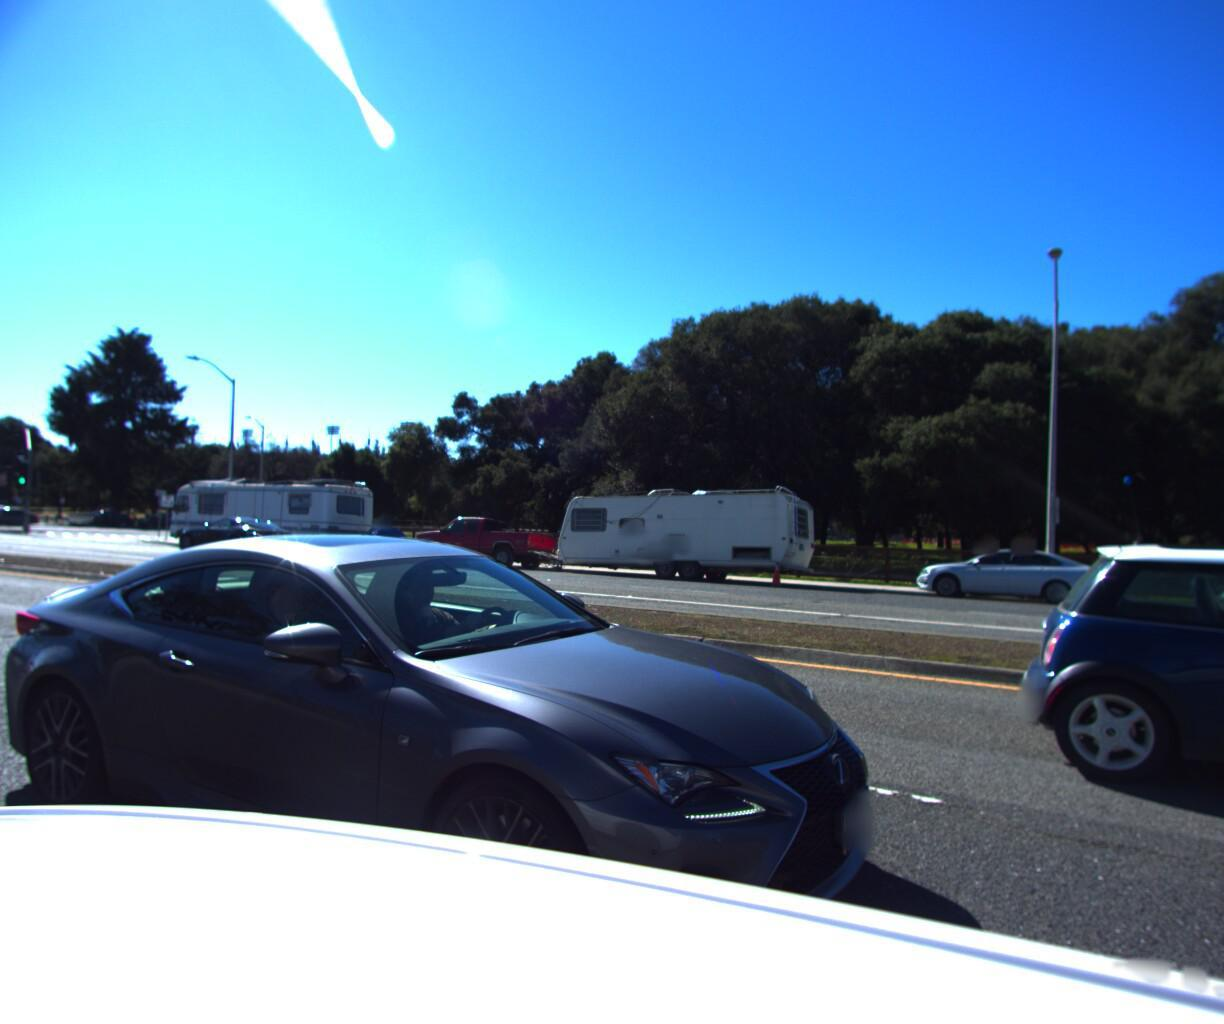car: (0, 504, 935, 1024), (995, 518, 1224, 893), (910, 540, 1108, 604), (407, 514, 564, 574), (168, 514, 300, 561), (1202, 547, 1224, 635)
other_vehicle: (553, 481, 828, 589), (159, 476, 386, 562), (342, 522, 419, 565)
